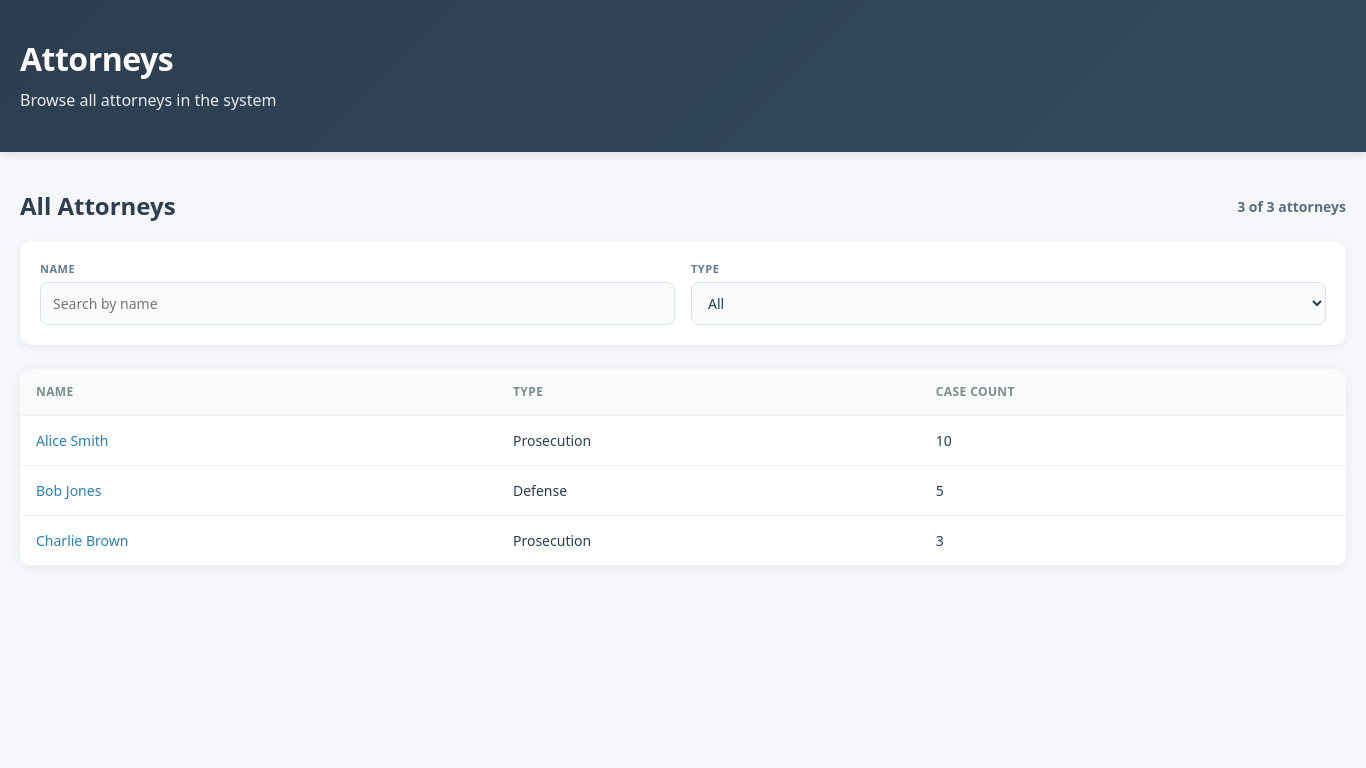
Test: AttorneysList › shows no match message when filter yields nothing
Expected: the link "Alice Smith" is shown, [36, 431, 108, 450]
Type "zzzzz" into the search field with placeholder "Search by name" at (358, 303), box [40, 282, 675, 325]
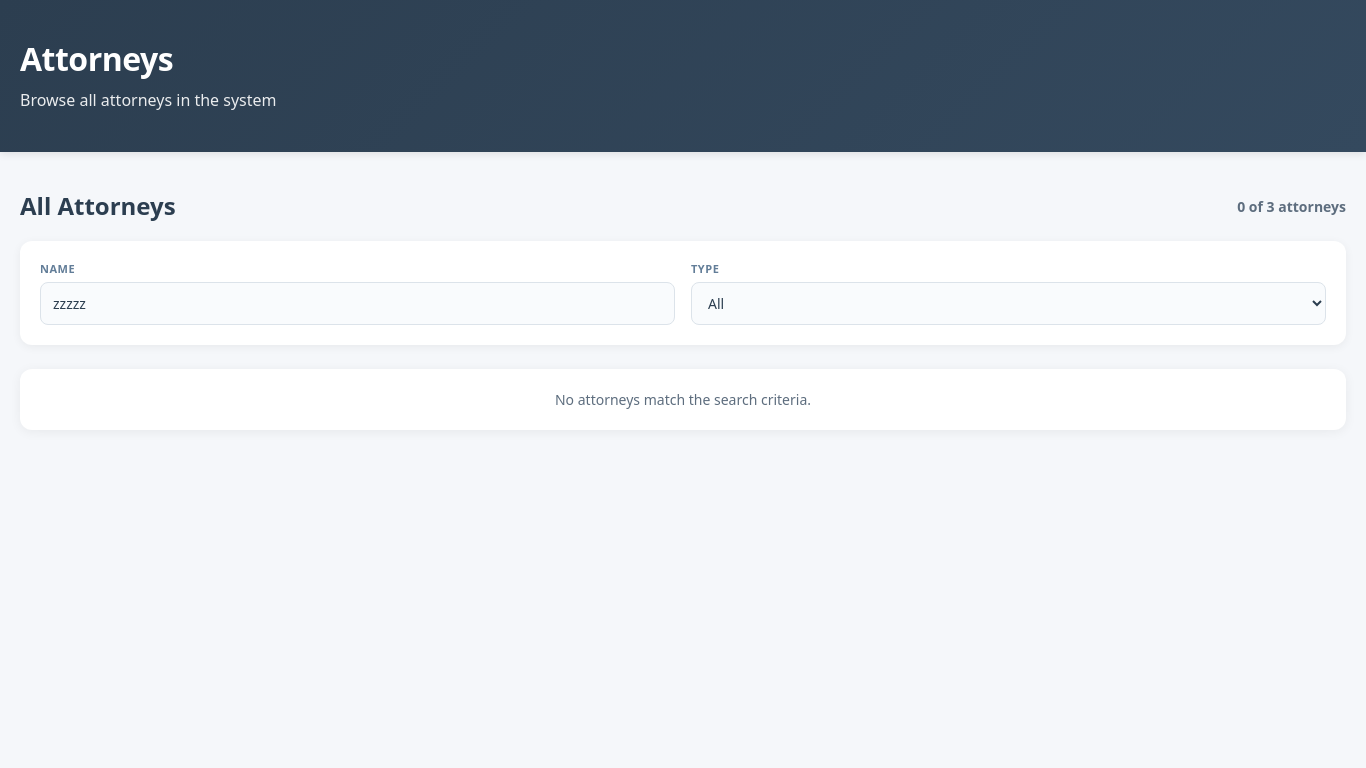
Expected: the text "No attorneys match the search criteria." is shown, [555, 390, 811, 409]
